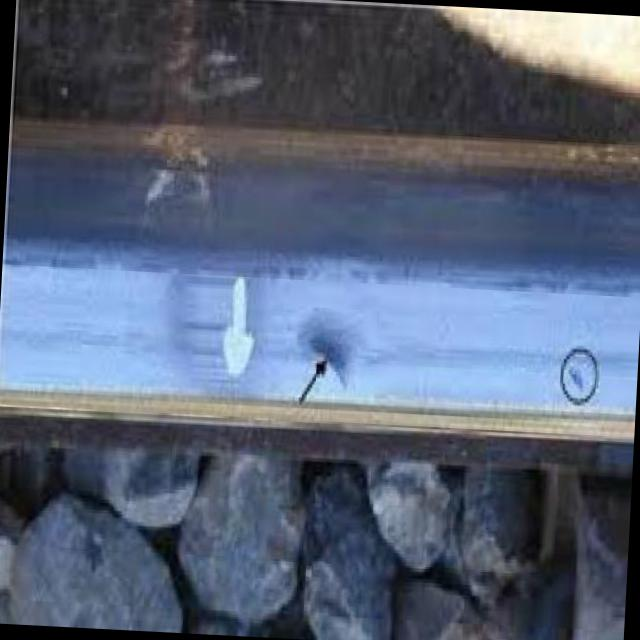defective: (172, 180, 424, 493)
